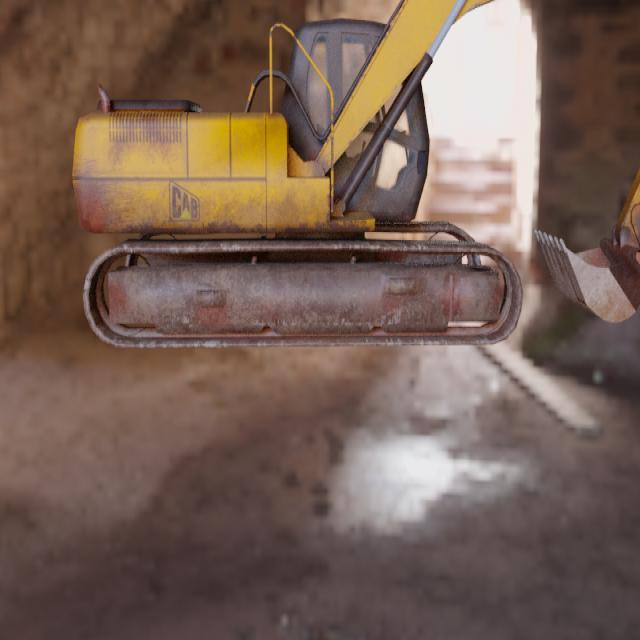excavator: (71, 0, 640, 349)
